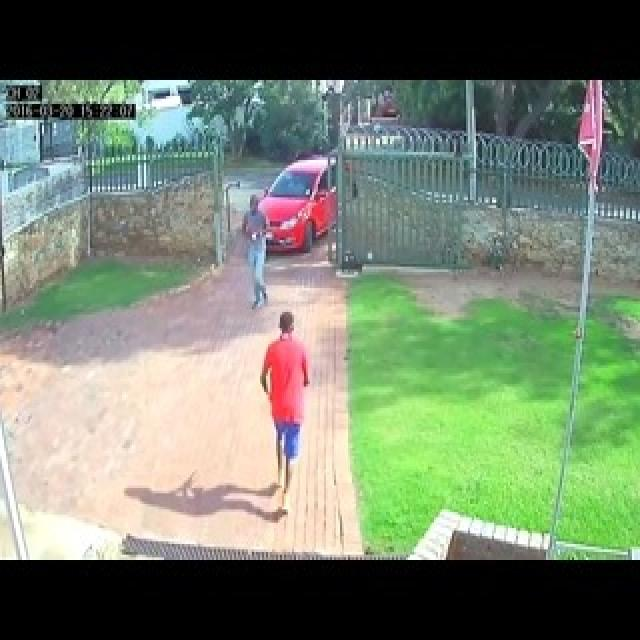thief: (255, 305, 307, 378), (236, 190, 266, 247)
